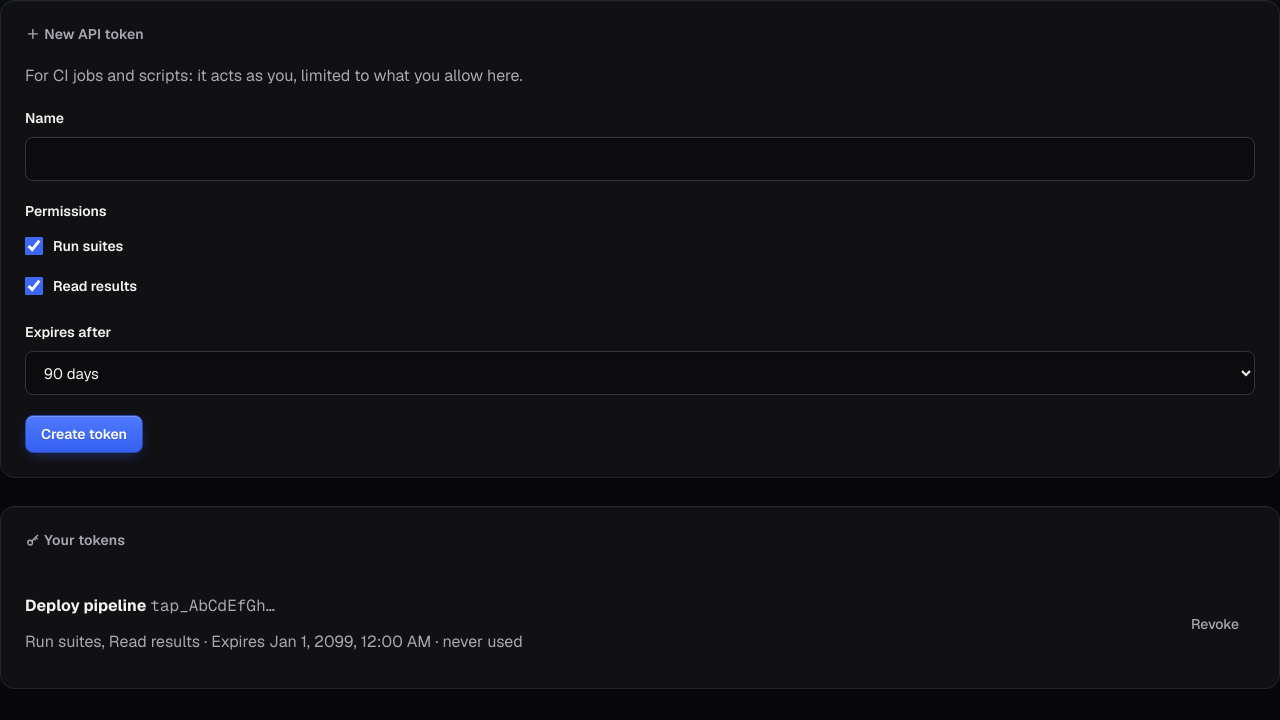
Test: ApiTokens (V1.2 F4) › creates a token, shows it once, and revokes one
Check: the text "tap_AbCdEfGh…" is shown, box [150,595,275,616]
Check: the text "never used" is shown, box [442,631,523,652]
Type "Nightly" into the field labelled "Name".
click(640, 159); type("Nightly")  # box [25,137,1255,181]
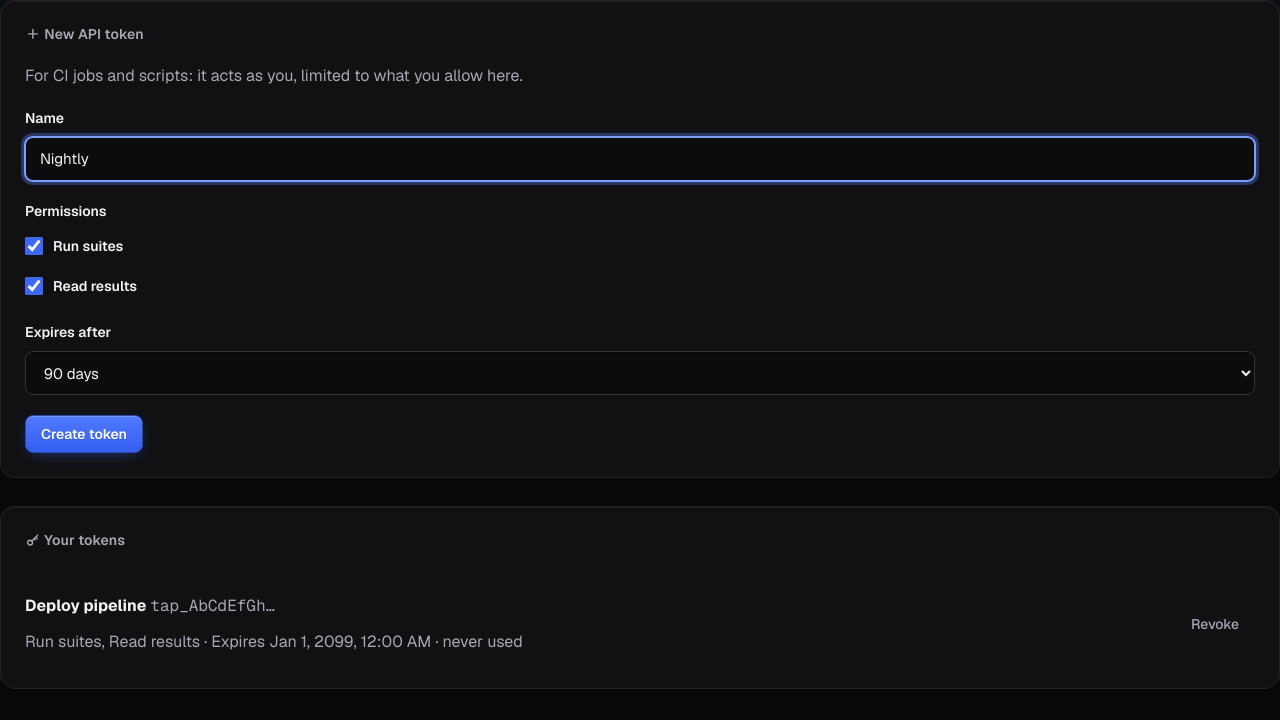
Click the checkbox labelled "Read results".
click(34, 286)  # box [25,277,43,295]
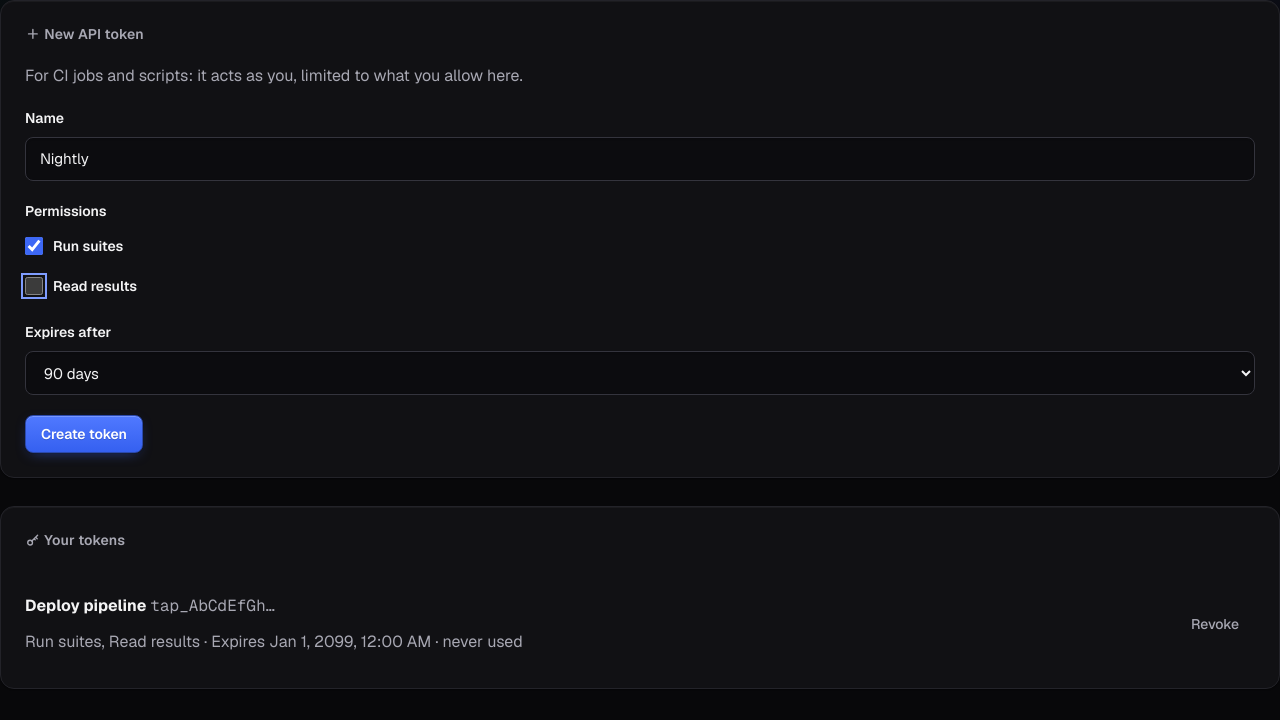
Select "Never" in the dropdown labelled "Expires after" at (640, 373), box [25,351,1255,395]
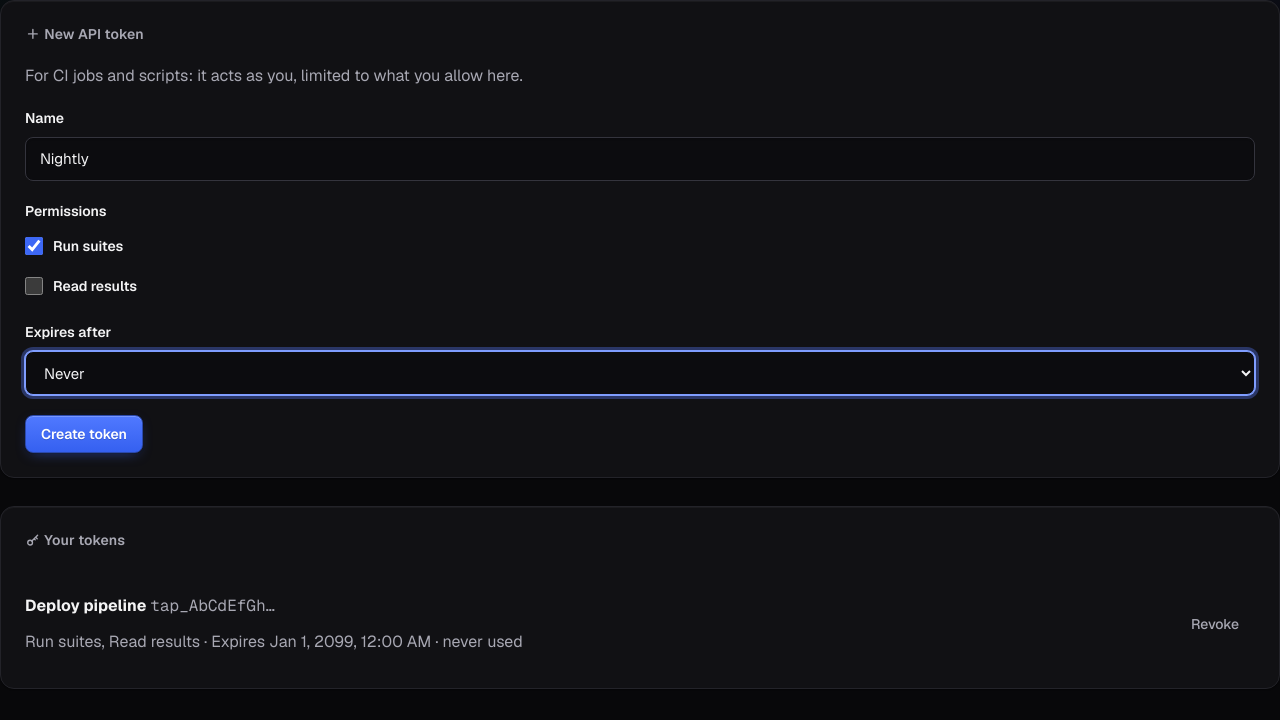
Click the button "Create token".
click(84, 434)  # box [25,415,143,453]
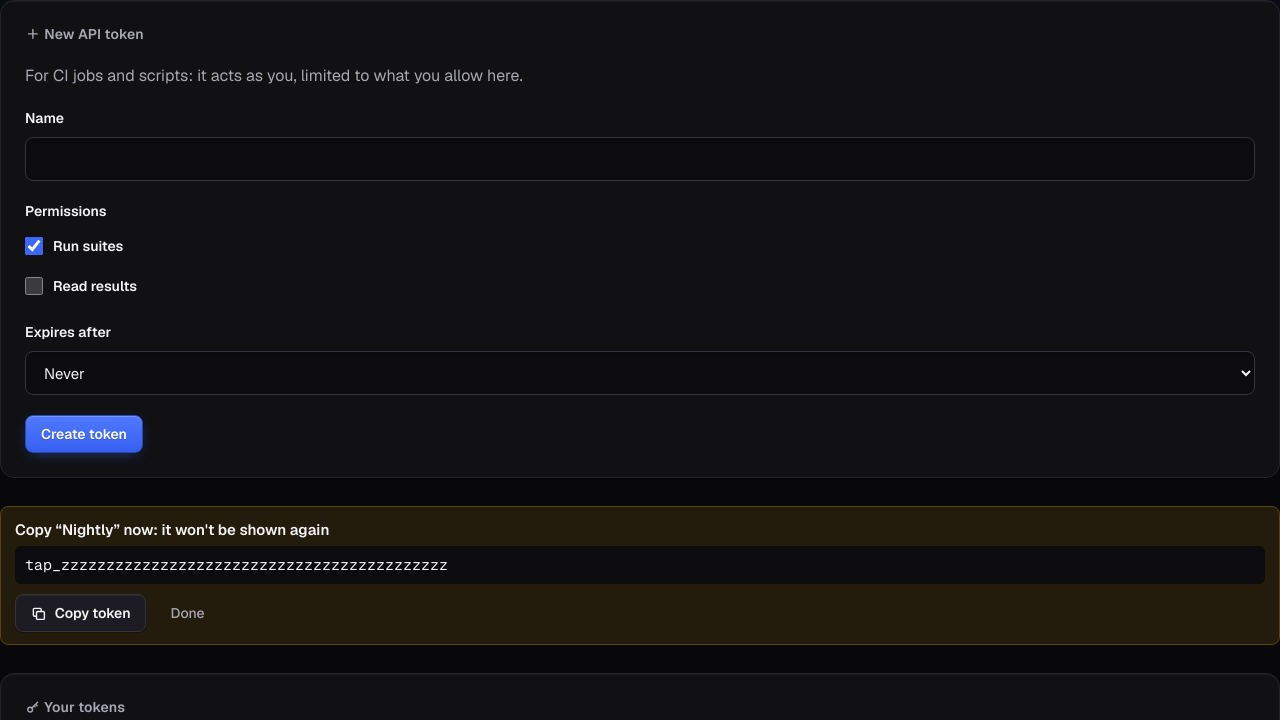
Click the button "Done".
click(188, 613)  # box [154,594,220,632]
(page scrolled)
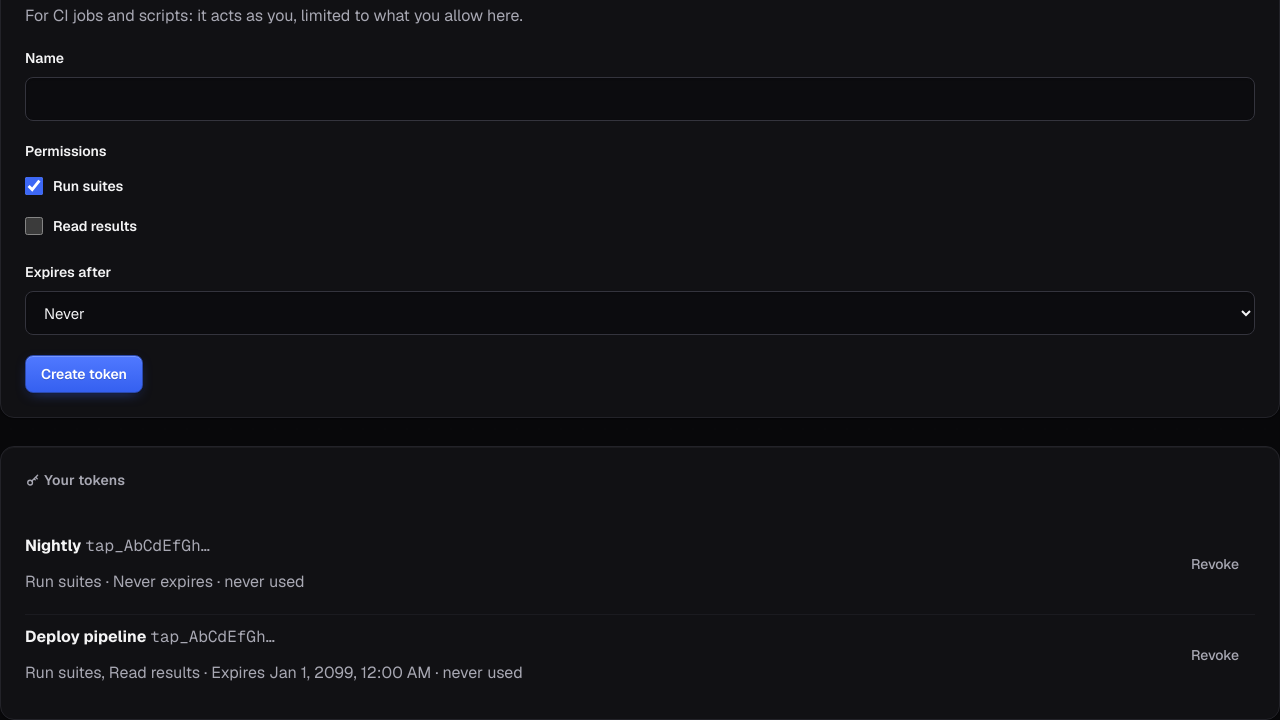
Click the button with aria-label "Revoke “Deploy pipeline”".
click(1215, 655)  # box [1175,636,1255,674]
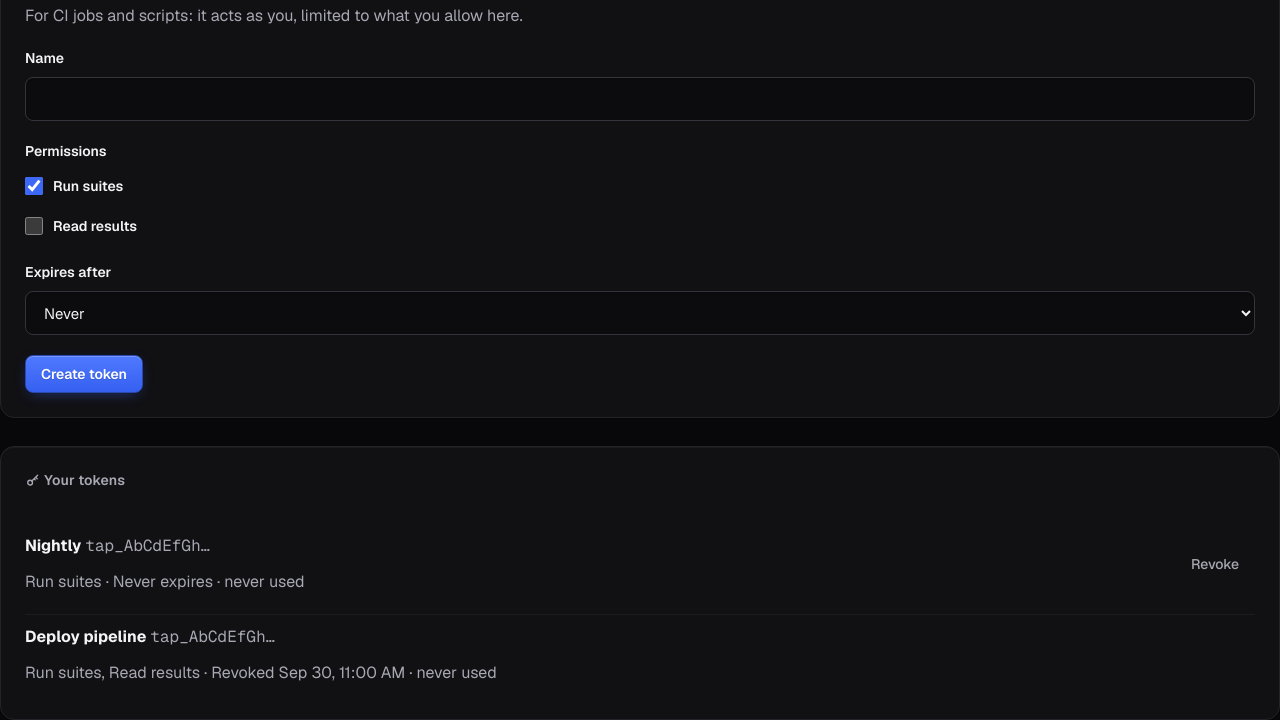
Check: the text "Revoked" is shown, box [211,662,405,683]
